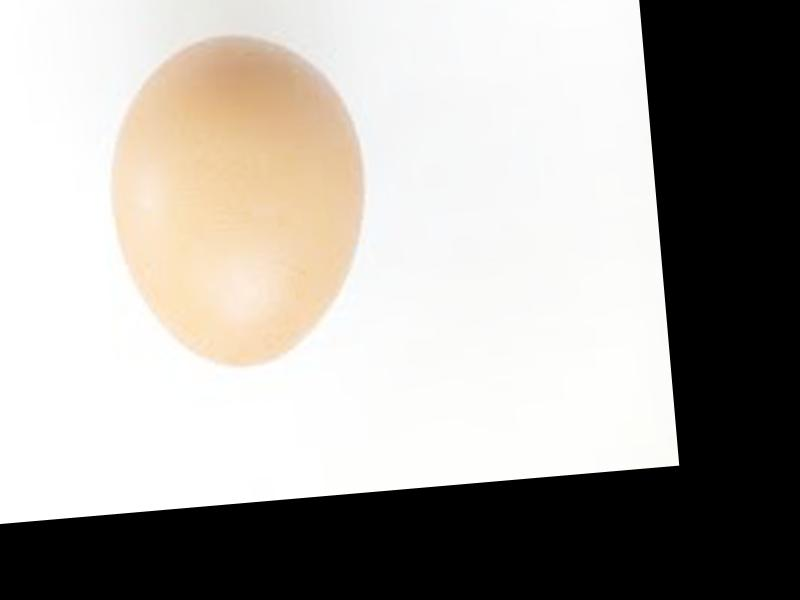Eggs: (100, 21, 382, 381)
